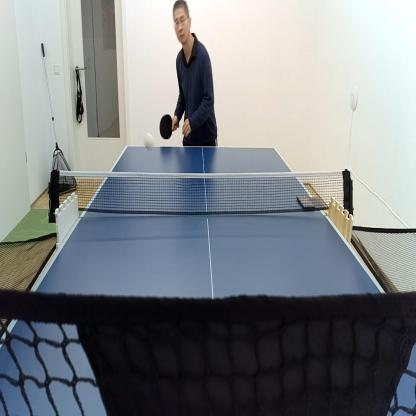Ball: (143, 130, 155, 152)
